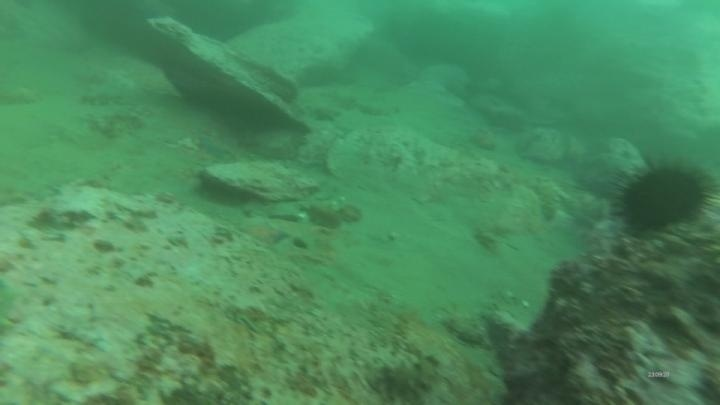echinus: (613, 156, 717, 237)
holothurian: (364, 352, 444, 404), (529, 174, 563, 226)
starfish: (238, 217, 290, 249), (194, 130, 237, 163)
